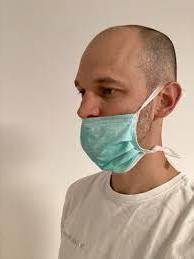mask_weared_incorrect: (73, 53, 140, 179)
